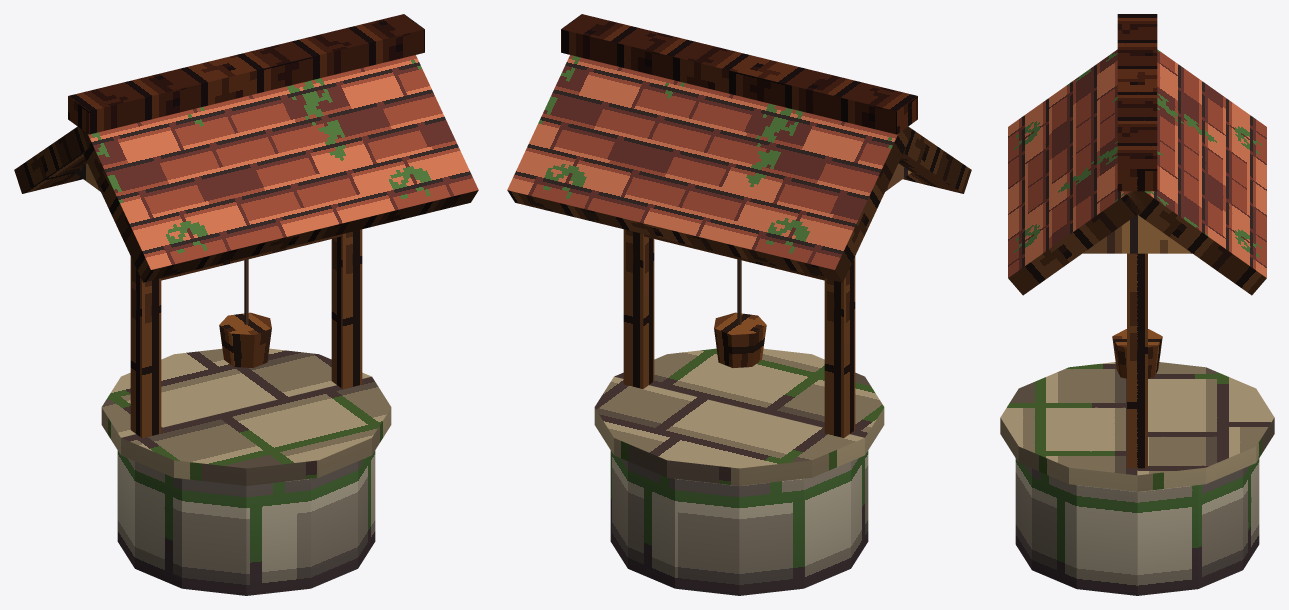
File: well.glb
The picture shows the model from 3 angles, left to right: view 1: azimuth 30°, elevation 25°; view 2: azimuth 150°, elevation 25°; view 3: azimuth 270°, elevation 25°; orthographic projection. The views are drawn at different scales.
Parts seen in each view (by area): view 1: well; view 2: well; view 3: well.
Boxes of the visible parts, bbox=[...] form: well: bbox=[14, 14, 478, 595]; well: bbox=[507, 14, 971, 595]; well: bbox=[1000, 14, 1274, 595].
Bounding box in the file's own units: 2.41 × 3.28 × 1.8.
Materials: 4 (3 with a texture image).
